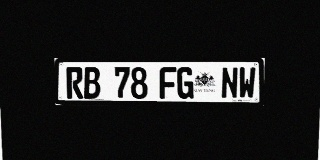7: (113, 67, 130, 99)
8: (131, 67, 147, 99)
B: (83, 67, 100, 99)
F: (159, 67, 176, 99)
G: (177, 67, 194, 99)
N: (221, 67, 238, 99)
R: (66, 67, 83, 99)
W: (238, 67, 256, 99)
